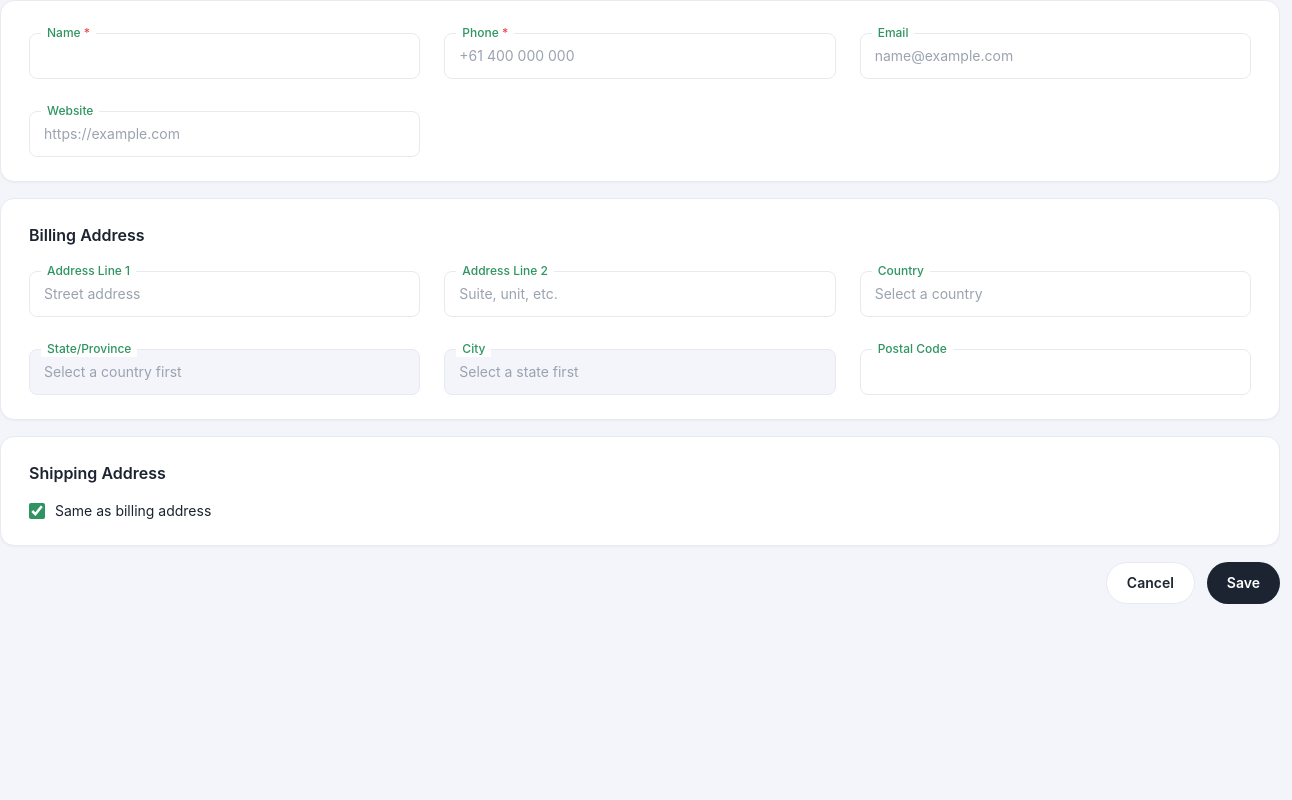
it: CompanyForm (spec 2.8.1) › enables State only after Country and City only after State (spec 2.8.1)
Expected: the field labelled "State/Province" is disabled, top-left (29, 349), bottom-right (420, 395)
Expected: the field labelled "City" is disabled, top-left (444, 349), bottom-right (836, 395)
Type "Australia" into the field labelled "Country" at (1055, 294), box top-left (860, 271), bottom-right (1251, 317)
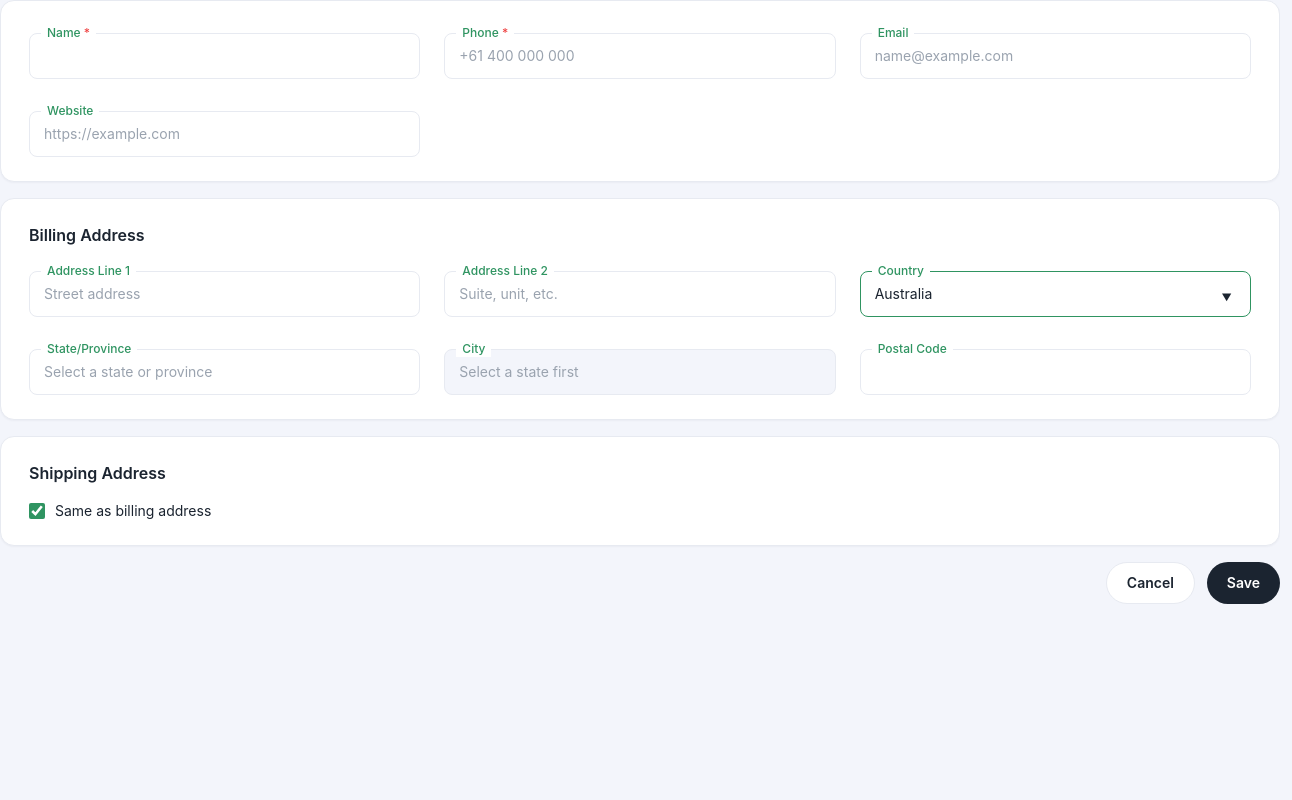
Expected: the field labelled "City" is disabled, top-left (444, 349), bottom-right (836, 395)
Expected: the field labelled "State/Province" is enabled
Type "New South Wales" into the field labelled "State/Province" at (225, 372), box top-left (29, 349), bottom-right (420, 395)
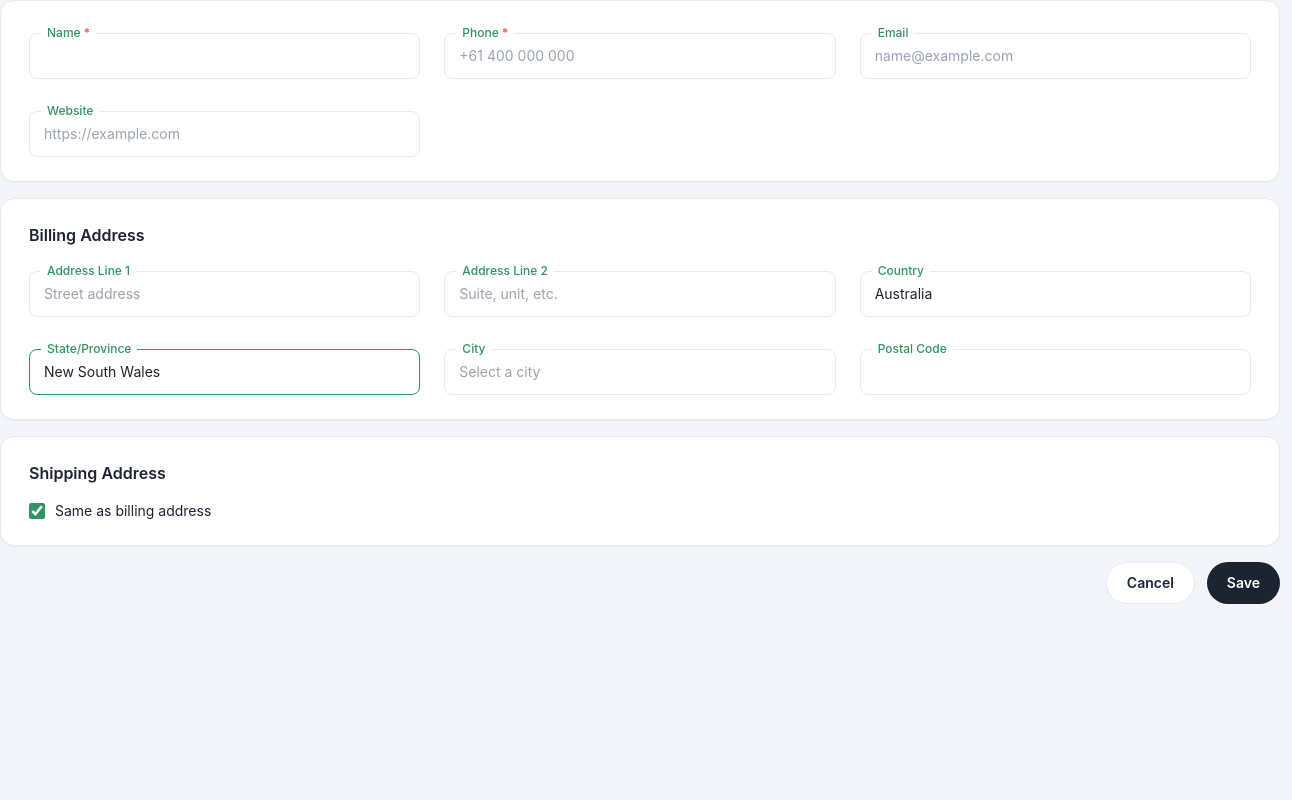
Expected: the field labelled "City" is enabled, top-left (444, 349), bottom-right (836, 395)
